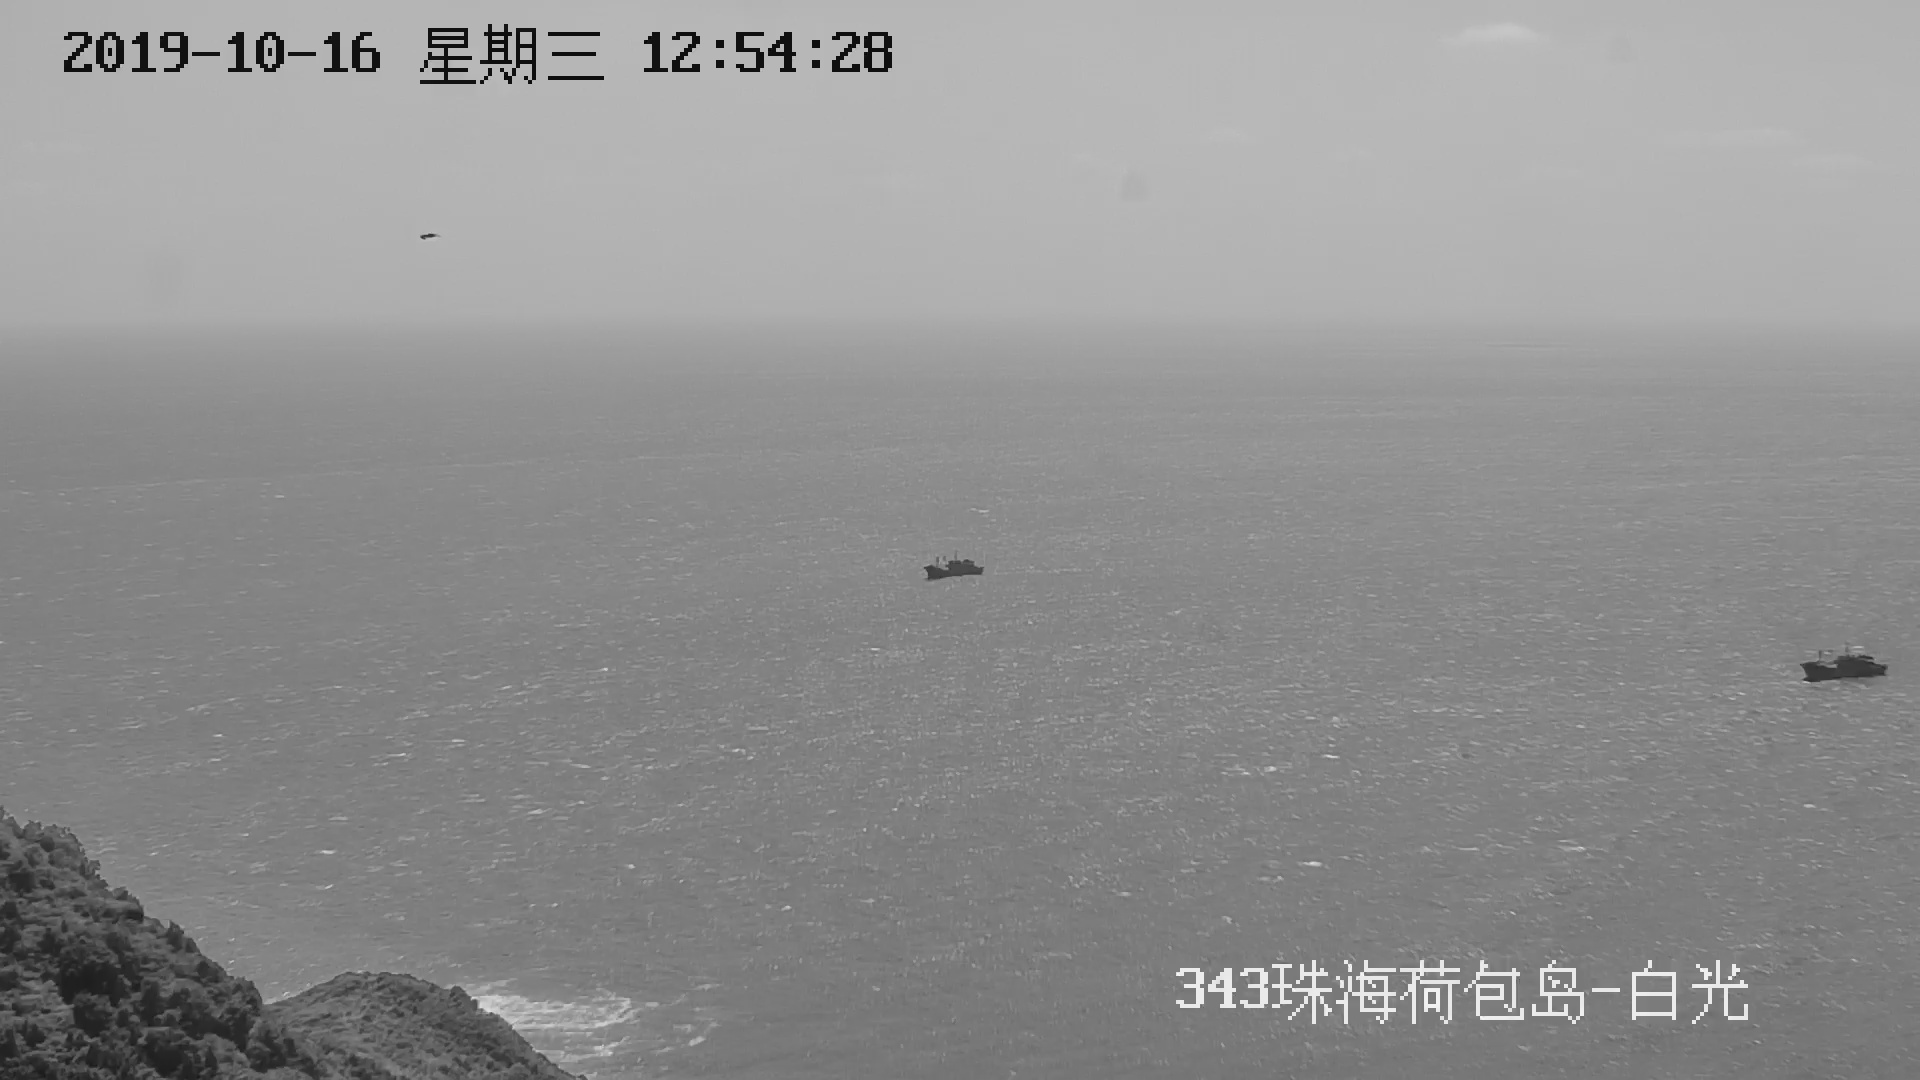ship: (1800, 649, 1887, 680), (922, 551, 986, 587)
